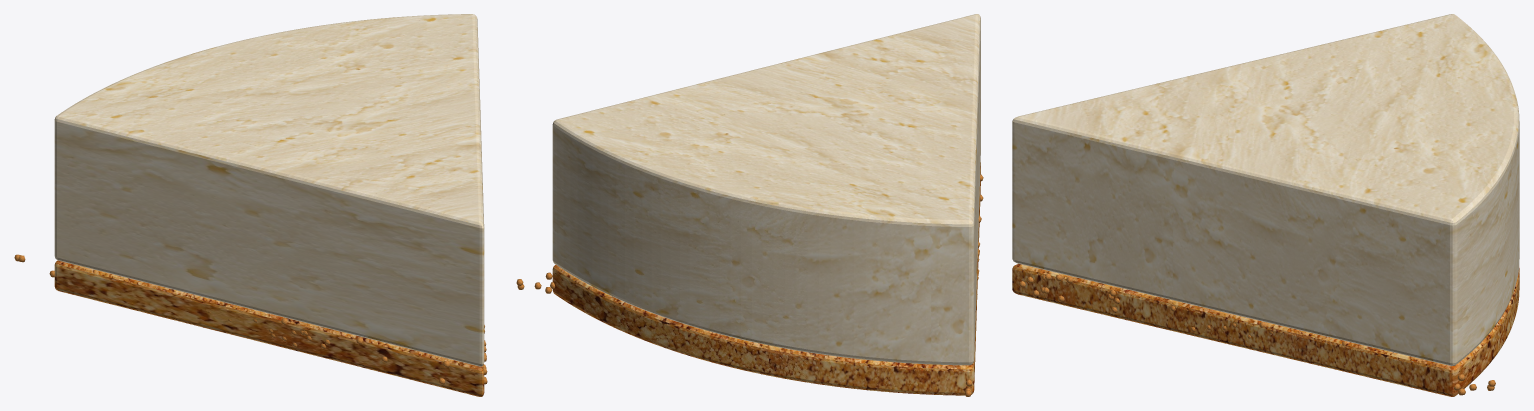
The model's file is sweet-cheesecake.glb.
3 renders of one model, left to right at view 1: azimuth 30°, elevation 25°; view 2: azimuth 150°, elevation 25°; view 3: azimuth 270°, elevation 25°, orthographic.
Visible parts, largest first — view 1: Creamy cut cheesecake, Graham crust; view 2: Creamy cut cheesecake, Graham crust; view 3: Creamy cut cheesecake, Graham crust.
Part boxes in pixels (x1=…): Creamy cut cheesecake: x1=54, y1=14, x2=484, y2=366; Graham crust: x1=54, y1=260, x2=484, y2=396; Creamy cut cheesecake: x1=552, y1=14, x2=980, y2=365; Graham crust: x1=552, y1=162, x2=980, y2=395; Creamy cut cheesecake: x1=1012, y1=14, x2=1519, y2=366; Graham crust: x1=1012, y1=263, x2=1519, y2=396.
Size of the model in its own units: 2.21 by 0.81 by 2.09.
2 materials, 2 textured.
